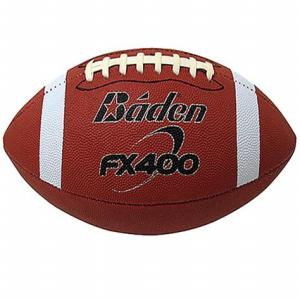Rugby: (3, 47, 296, 236)
